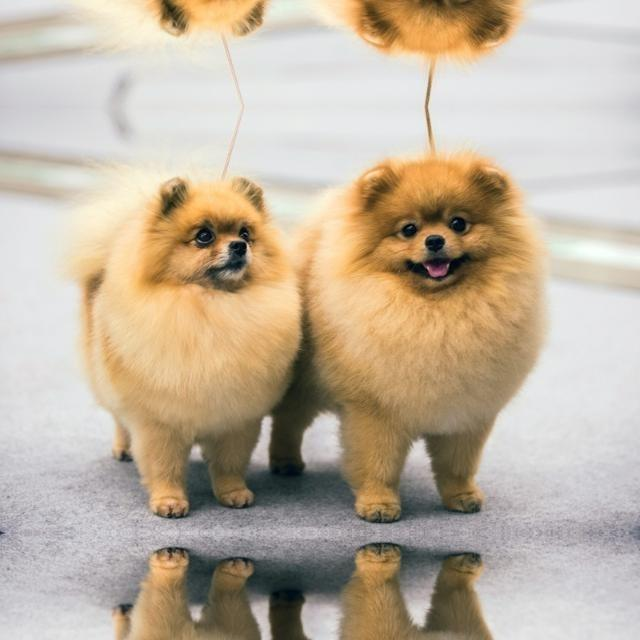dog: (344, 134, 540, 340), (98, 154, 296, 318), (344, 0, 540, 78), (98, 0, 297, 58)
